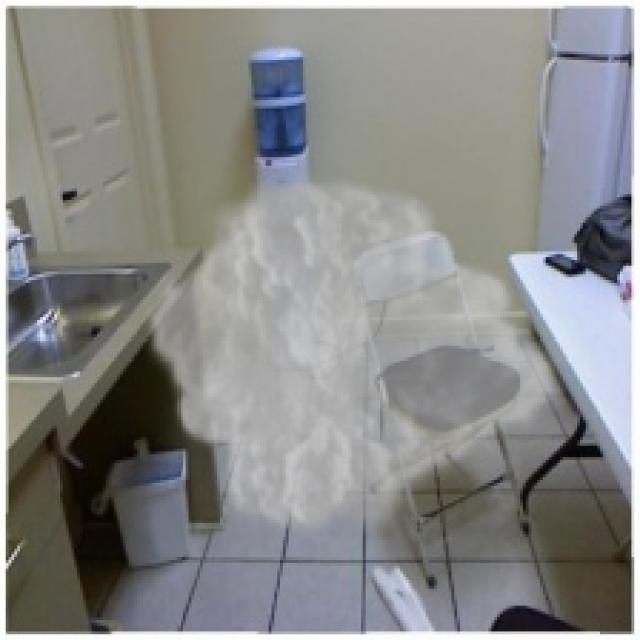smoke: (143, 166, 566, 543)
